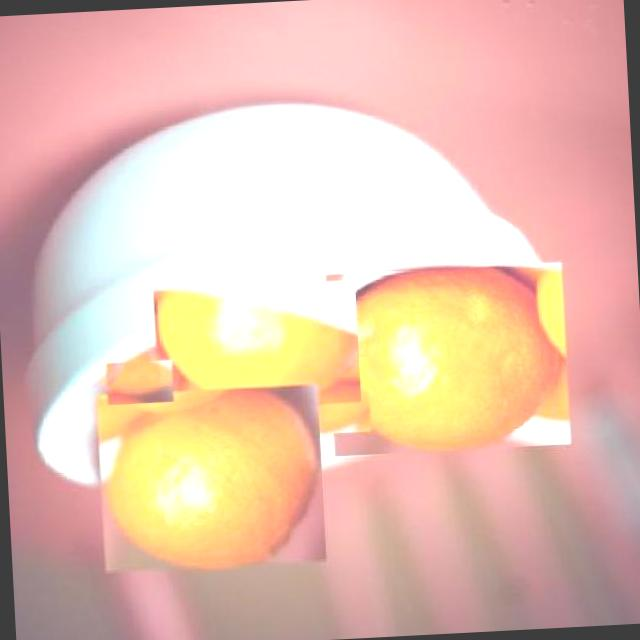Orange: (325, 262, 571, 457), (97, 384, 327, 572), (154, 280, 361, 412)
